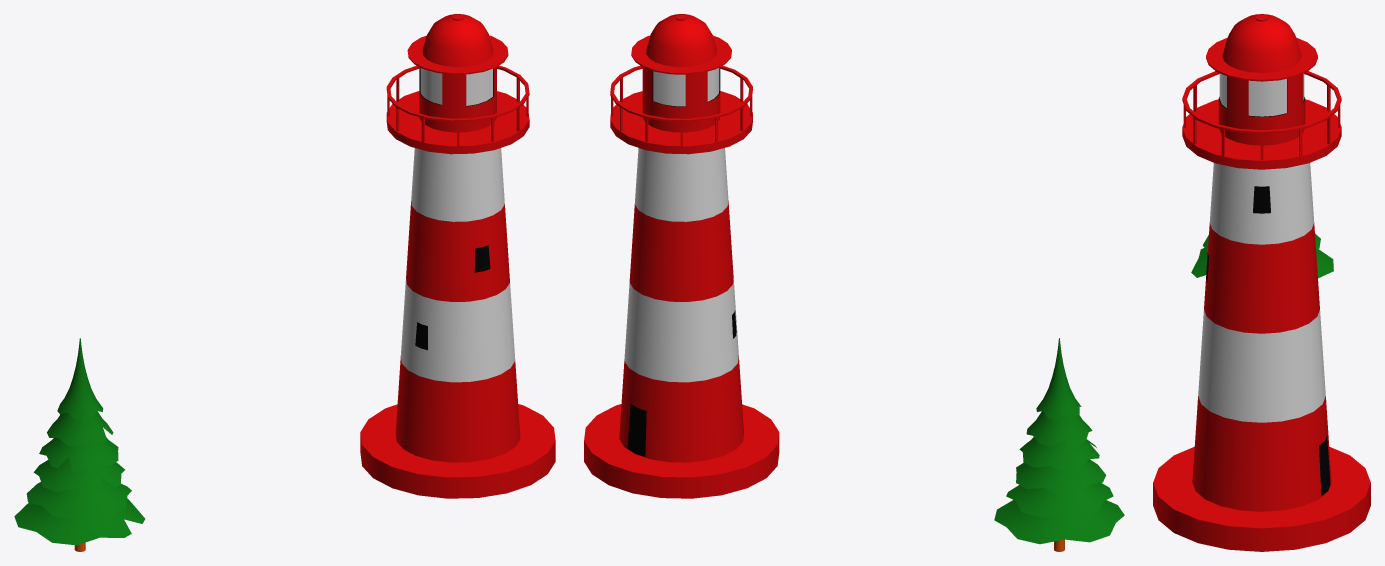
The model's file is lighthouse.fbx.
3 views of the same model, side by side, from view 1: azimuth 30°, elevation 25°; view 2: azimuth 150°, elevation 25°; view 3: azimuth 270°, elevation 25° (orthographic). The views are drawn at different scales.
Parts seen in each view (by area): view 1: light house, tree1; view 2: light house, tree1; view 3: light house, tree1.
Part boxes in pixels (x1=…): light house: x1=360, y1=14, x2=555, y2=498; tree1: x1=14, y1=338, x2=144, y2=551; light house: x1=584, y1=14, x2=779, y2=498; tree1: x1=994, y1=338, x2=1124, y2=551; light house: x1=1153, y1=14, x2=1370, y2=551; tree1: x1=1191, y1=233, x2=1333, y2=278.
Size of the model in its own units: 1649 by 1337 by 540.
